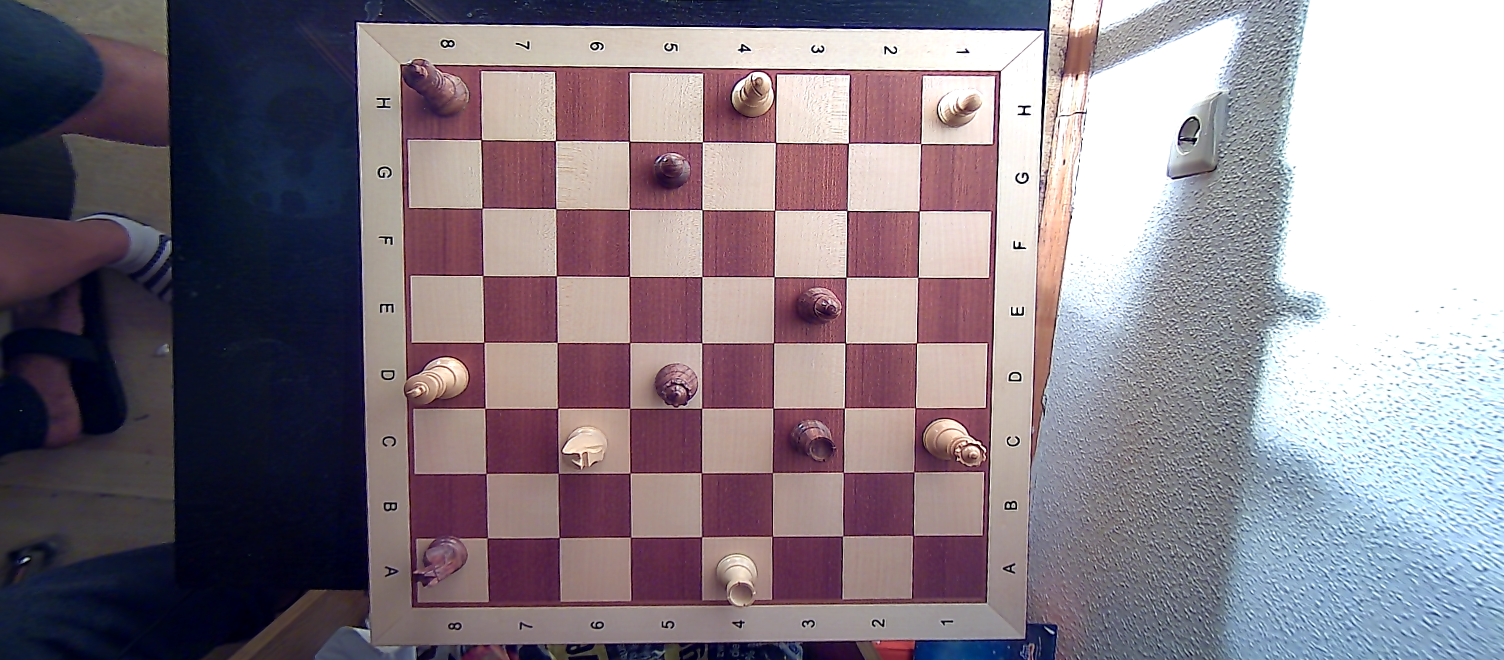black-bishop: (788, 282, 843, 329)
black-king: (396, 54, 473, 120)
black-knight: (409, 537, 472, 591)
black-pawn: (647, 147, 692, 190)
black-queen: (649, 360, 699, 407)
black-rook: (788, 414, 838, 468)
white-bishop: (727, 70, 778, 121)
white-king: (401, 353, 470, 410)
white-knight: (555, 422, 610, 472)
white-pawn: (933, 84, 984, 131)
white-queen: (920, 414, 989, 473)
white-rook: (710, 546, 764, 610)
